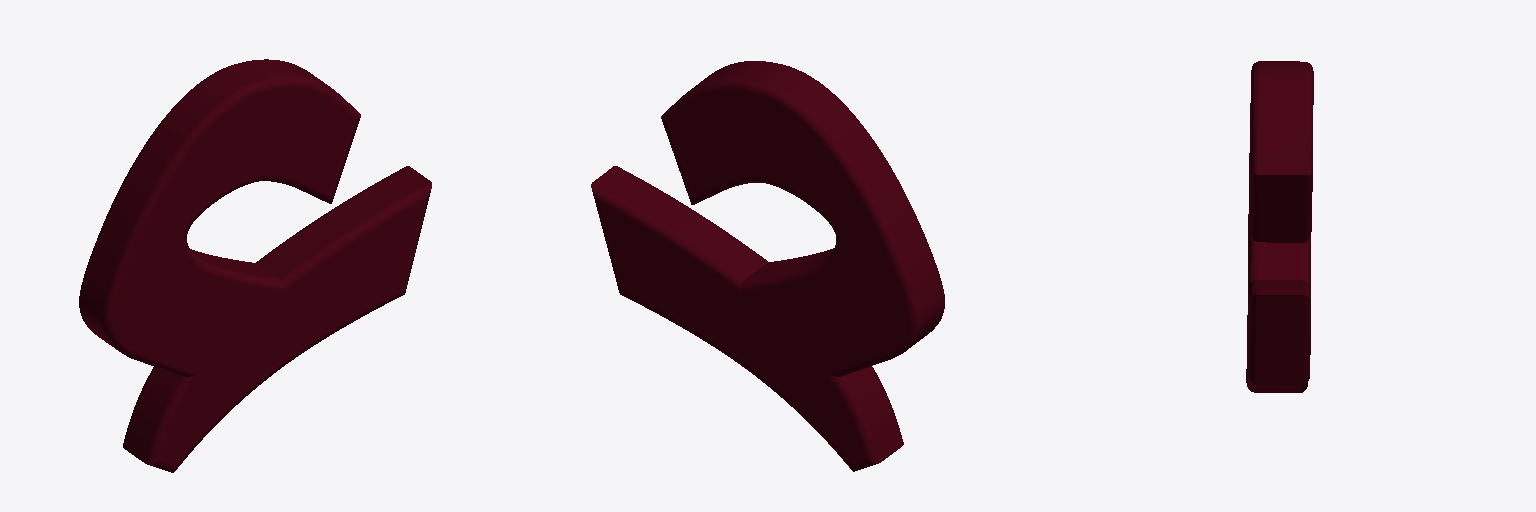
The model's file is Hamzah.obj.
3 renders of one model, left to right at view 1: azimuth 30°, elevation 25°; view 2: azimuth 150°, elevation 25°; view 3: azimuth 270°, elevation 25°, orthographic.
Parts seen in each view (by area): view 1: Curve.028; view 2: Curve.028; view 3: Curve.028.
Part boxes in pixels (x1,y1,x2,y2): Curve.028: (79, 59, 431, 472); Curve.028: (591, 61, 944, 471); Curve.028: (1246, 61, 1313, 392).
Size of the model in its own units: 2.44 by 2.61 by 0.43.